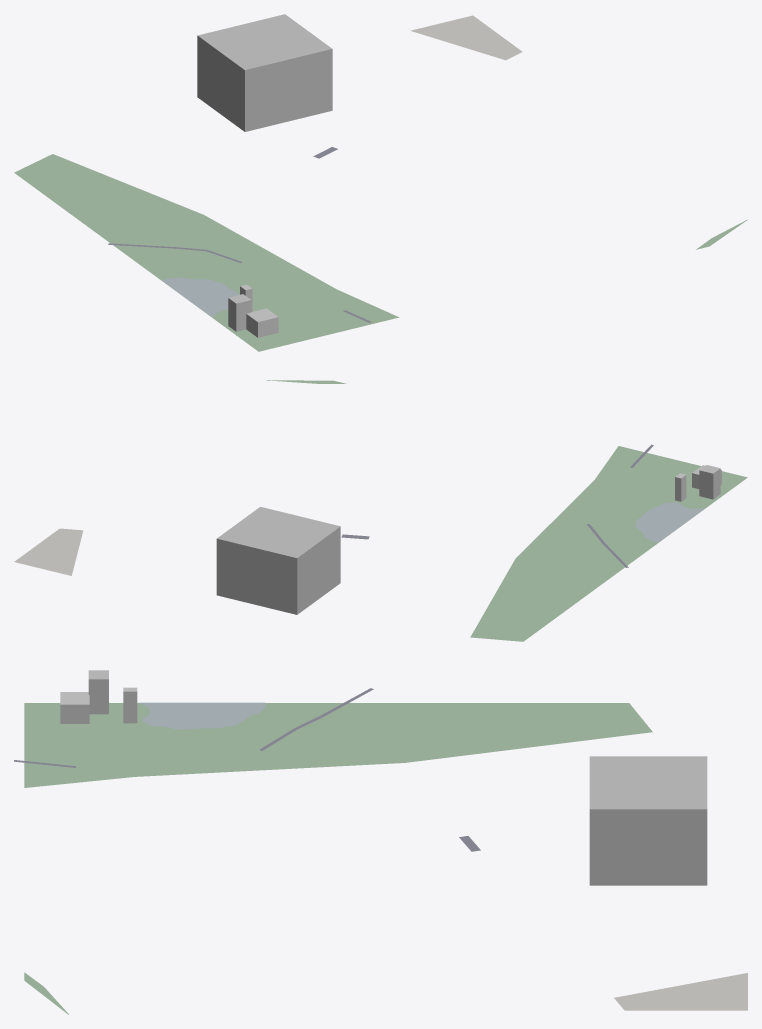
File: 136_112_mid.glb
3 renders of one model, top to bottom at view 1: azimuth 30°, elevation 25°; view 2: azimuth 150°, elevation 25°; view 3: azimuth 270°, elevation 25°, orthographic. The views are drawn at different scales.
Bounding box in the file's own units: 510 × 62.56 × 507.
